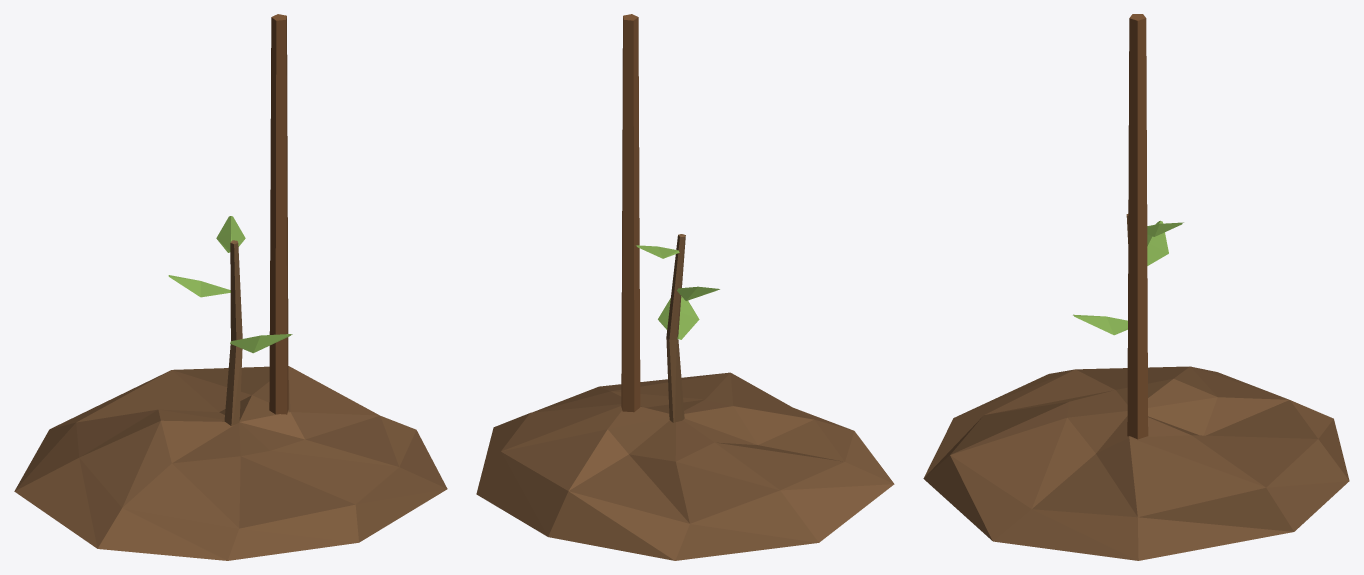
Rendered from ZB_agac_uzum_a2.glb.
The picture shows the model from 3 angles, left to right: view 1: azimuth 30°, elevation 25°; view 2: azimuth 150°, elevation 25°; view 3: azimuth 270°, elevation 25°; orthographic projection. The views are drawn at different scales.
Parts seen in each view (by area): view 1: ZB_agac_uzum_a2; view 2: ZB_agac_uzum_a2; view 3: ZB_agac_uzum_a2.
Part boxes in pixels (box(x1,y1,x2,y2)): ZB_agac_uzum_a2: box(14, 14, 447, 560); ZB_agac_uzum_a2: box(476, 14, 894, 560); ZB_agac_uzum_a2: box(923, 14, 1349, 560).
Size of the model in its own units: 0.5995 by 0.7 by 0.5717.
